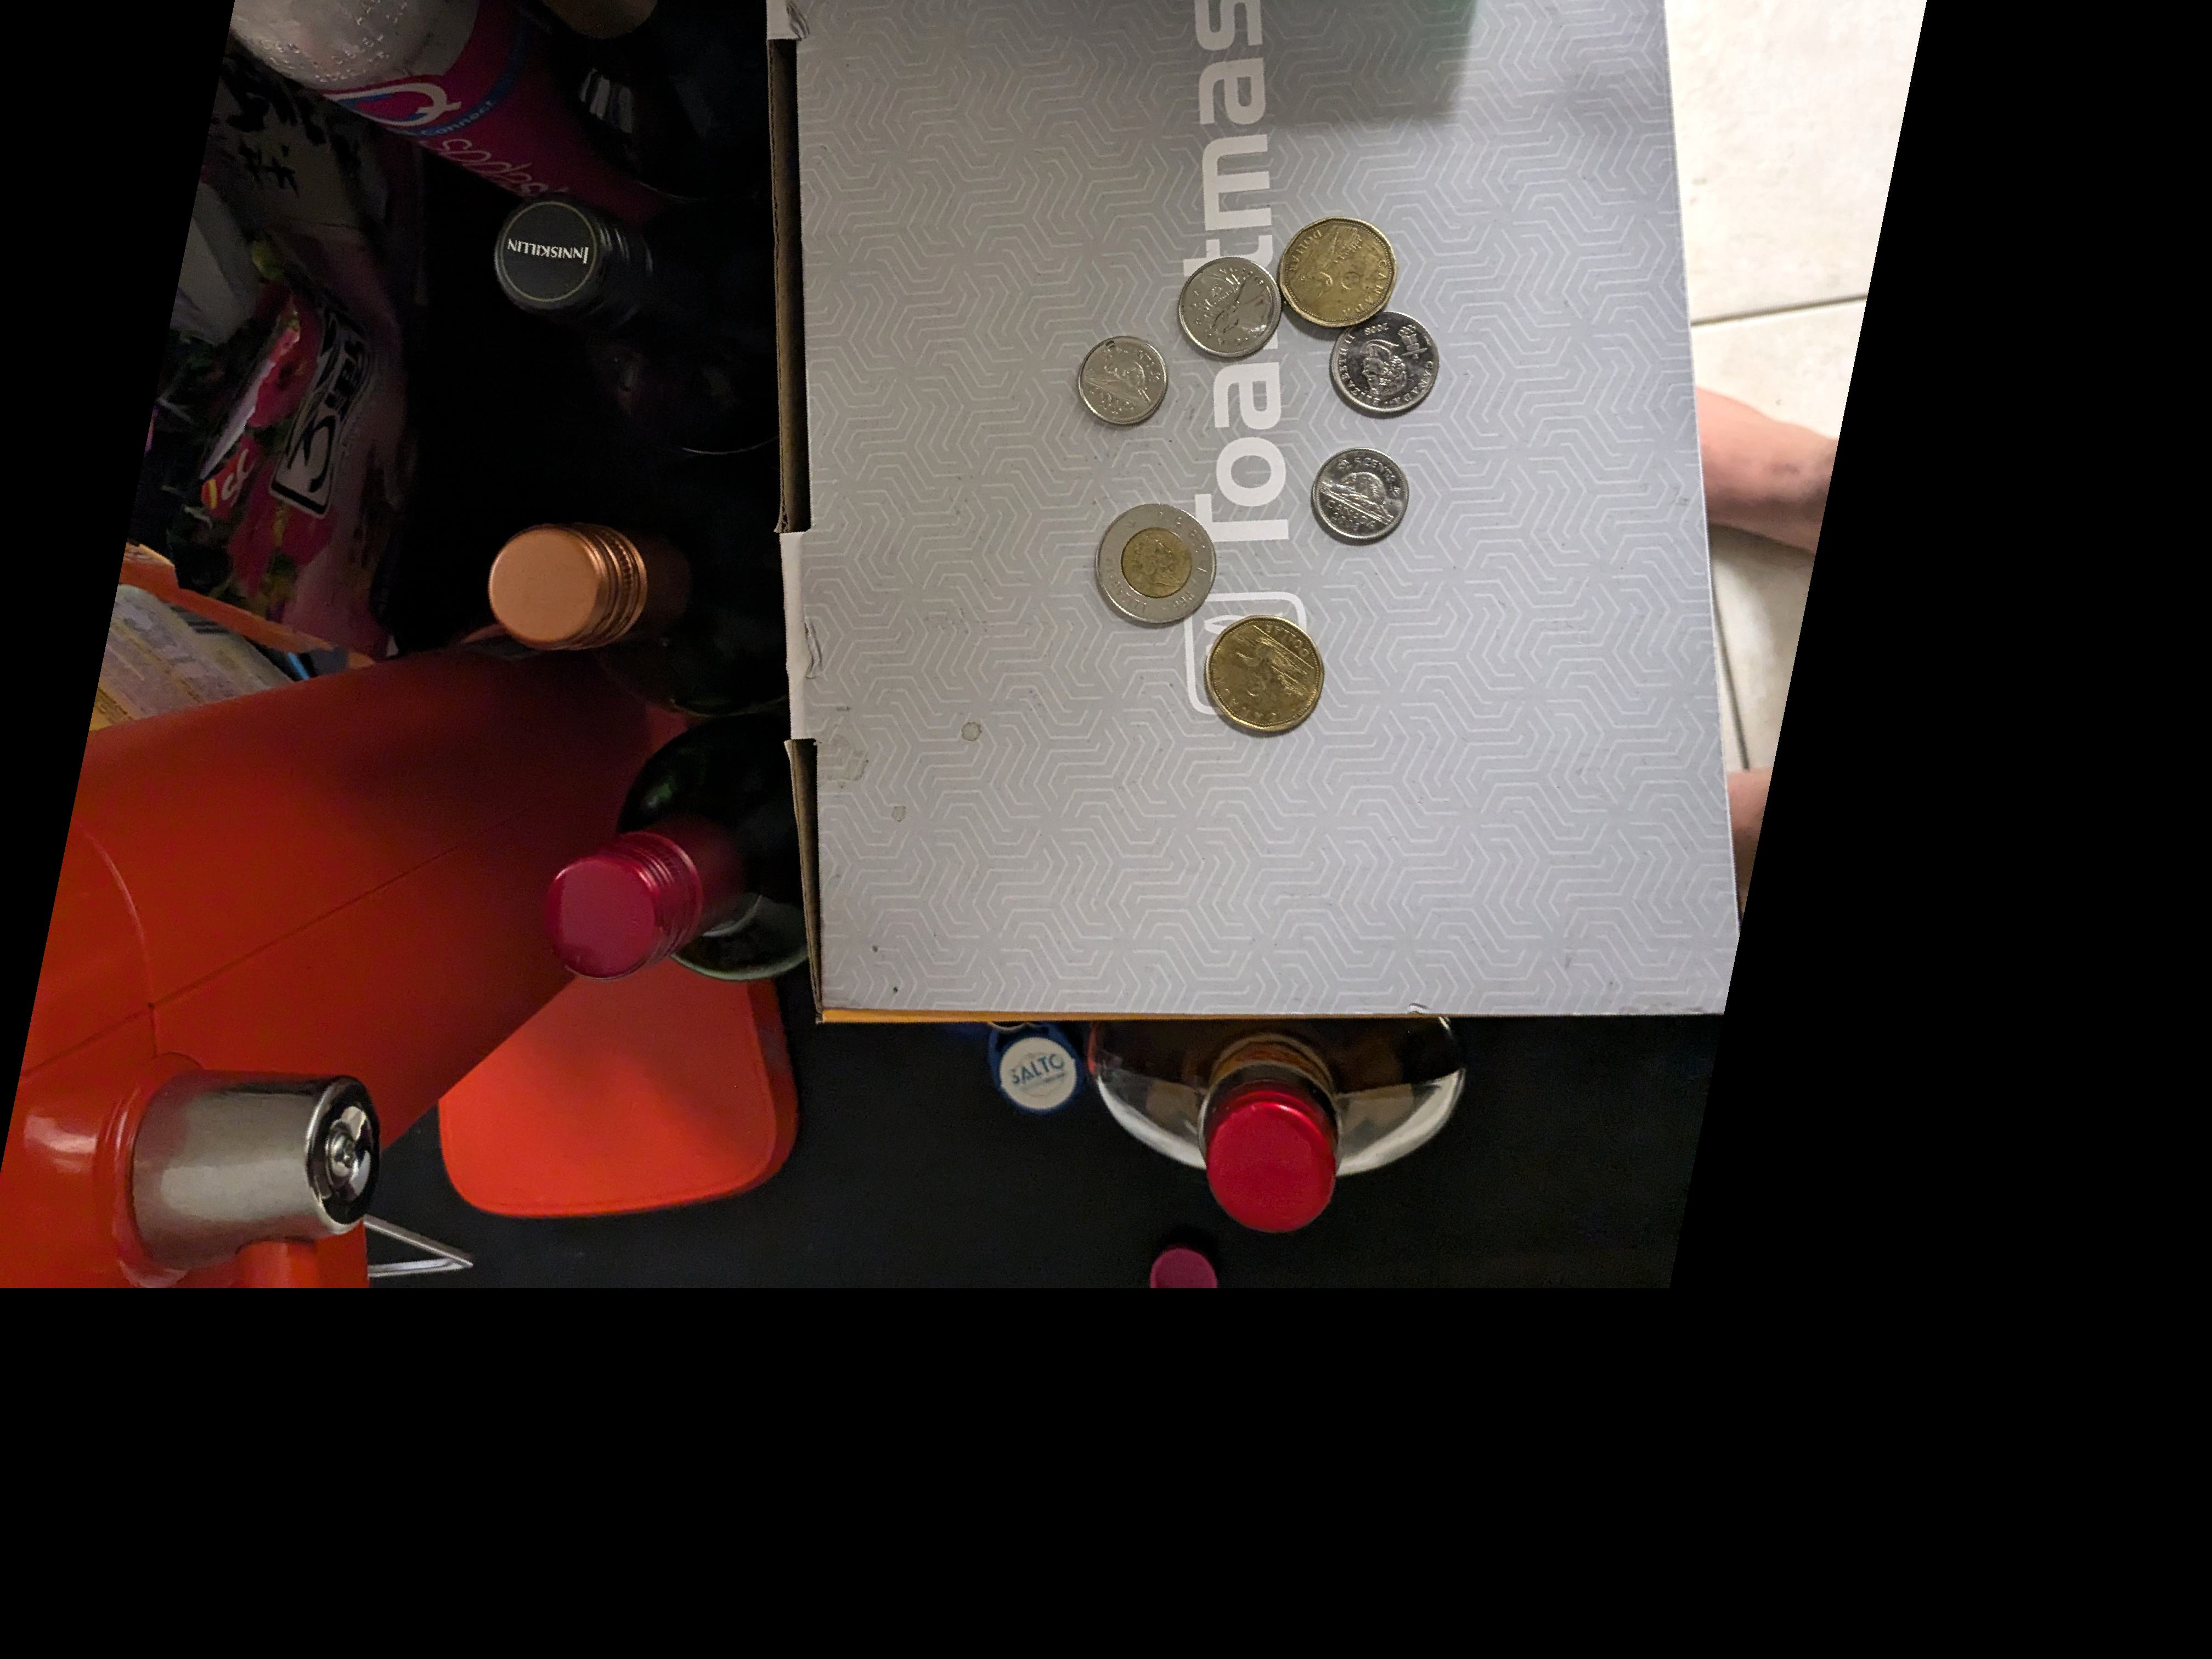loonie: (1204, 615, 1329, 739), (1280, 209, 1400, 333)
nickel: (1317, 450, 1413, 547), (1076, 333, 1172, 429)
quarter: (1331, 315, 1439, 422), (1172, 261, 1282, 361)
toonie: (1092, 502, 1219, 629)
